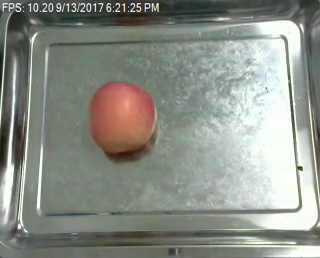Apple: (85, 76, 158, 159)
